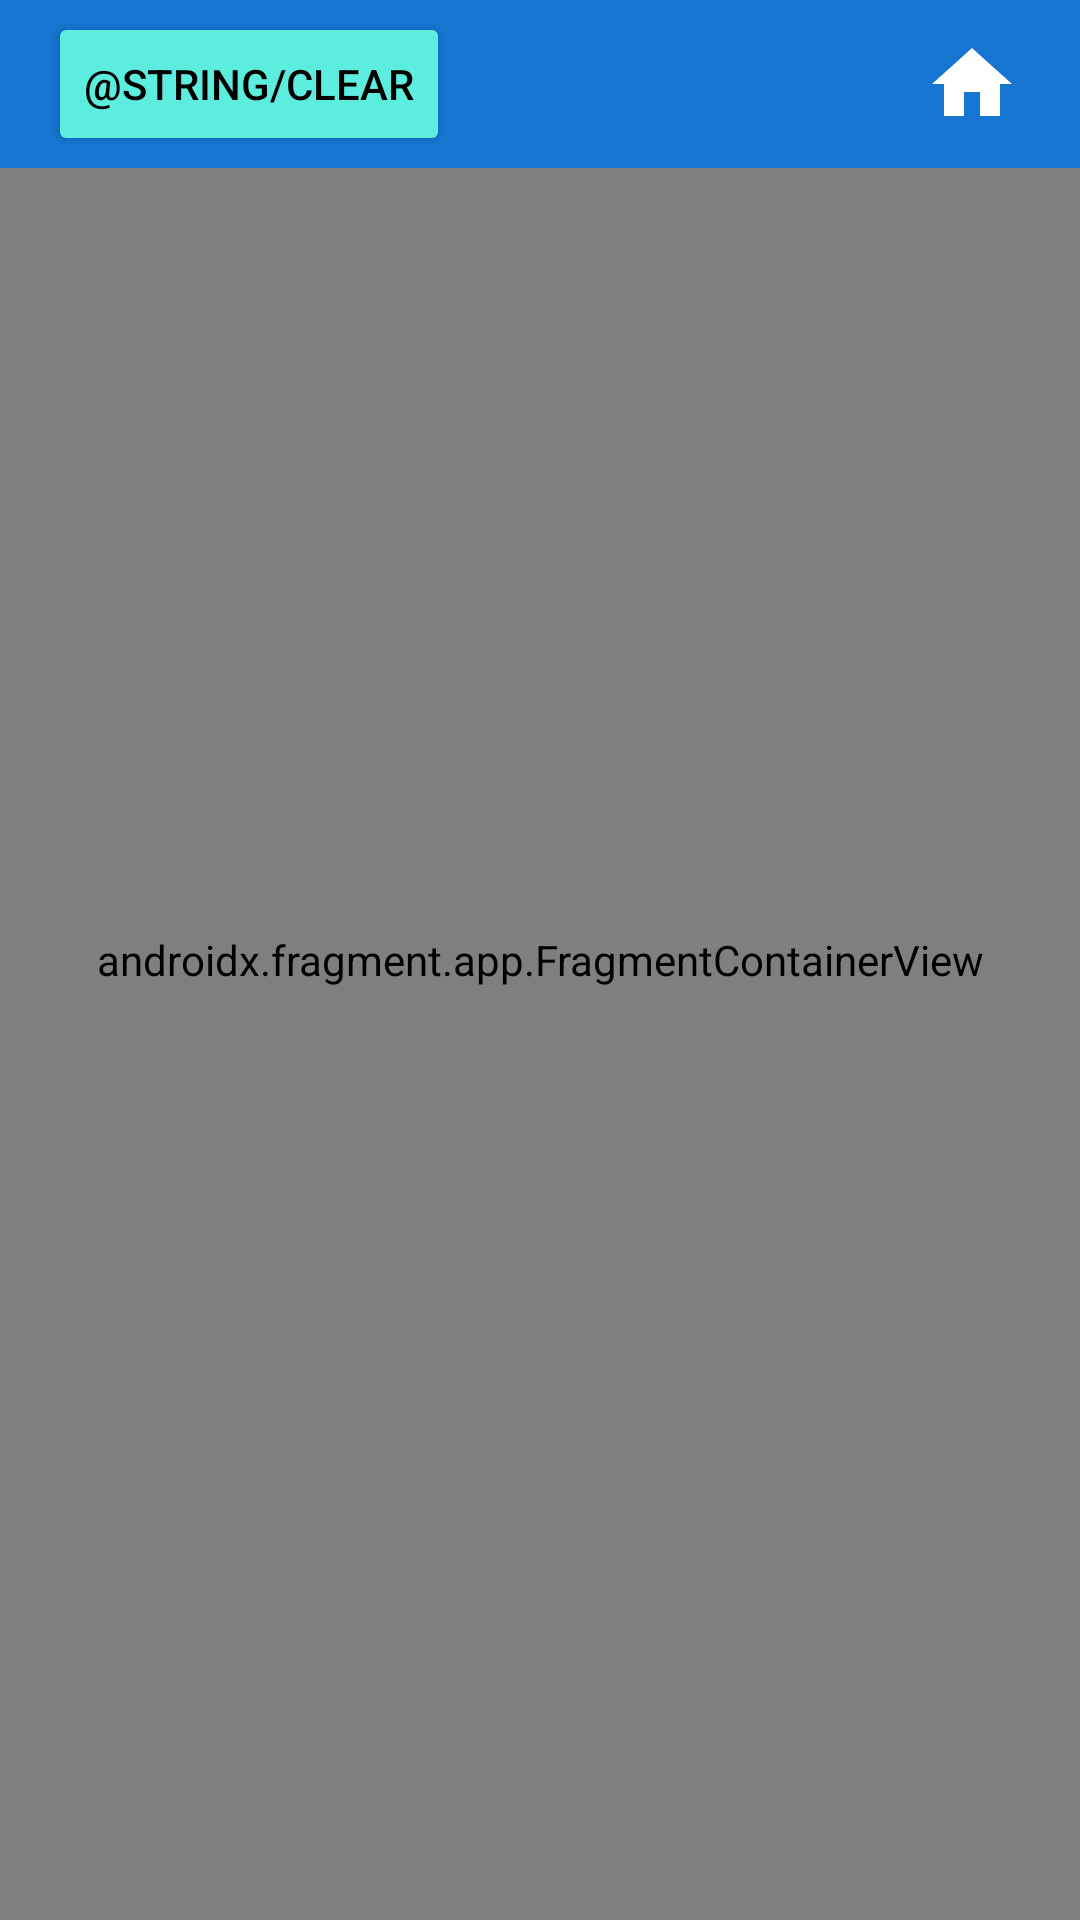

Icons on this 1080px x 1920px Android screen, each with the point to tap as (x,y):
Home: (972,82)
